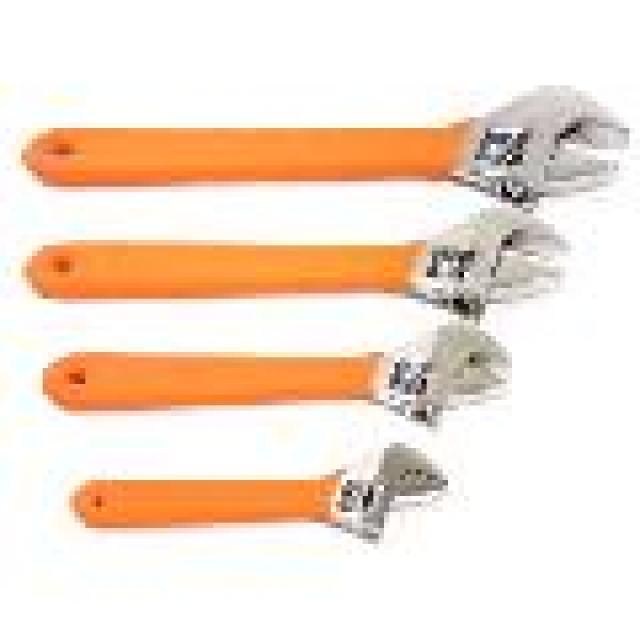wrench: (14, 75, 636, 210), (17, 196, 580, 318), (29, 318, 522, 432), (64, 434, 453, 550)
